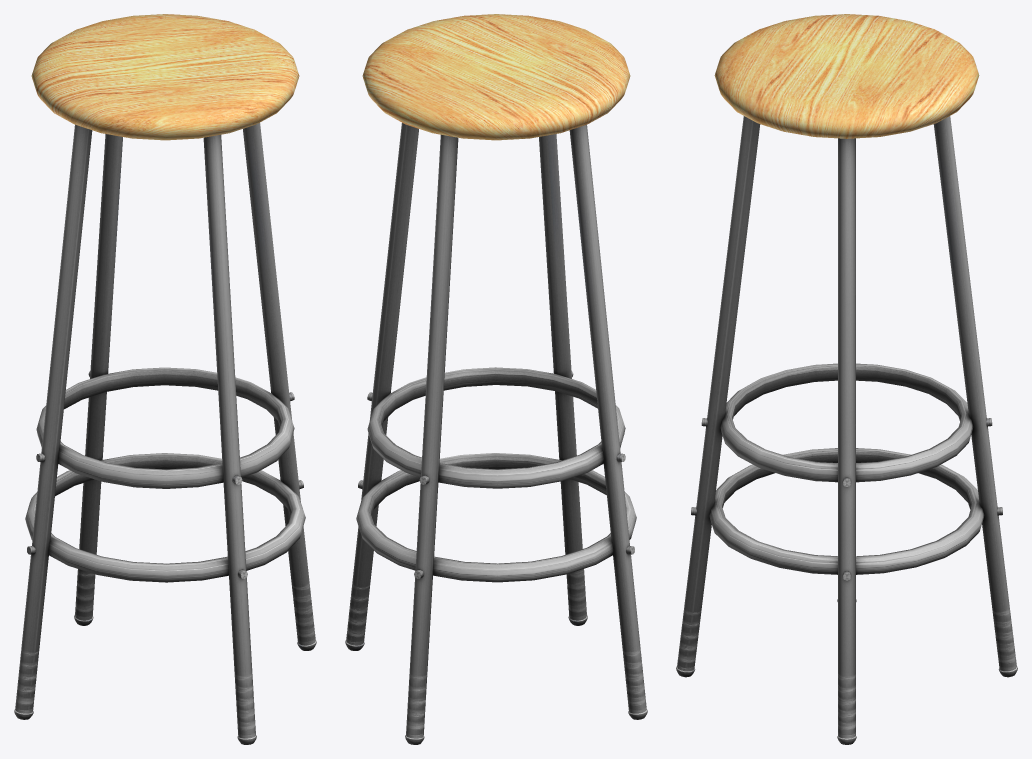
Rendered from chair_1.obj.
3 renders of one model, left to right at view 1: azimuth 30°, elevation 25°; view 2: azimuth 150°, elevation 25°; view 3: azimuth 270°, elevation 25°, orthographic.
Visible parts, largest first — view 1: chair_1; view 2: chair_1; view 3: chair_1.
Boxes of the visible parts, bbox=[...] form: chair_1: bbox=[14, 14, 316, 744]; chair_1: bbox=[345, 14, 647, 744]; chair_1: bbox=[676, 14, 1017, 744].
Size of the model in its own units: 0.8755 by 1.73 by 0.8755.
